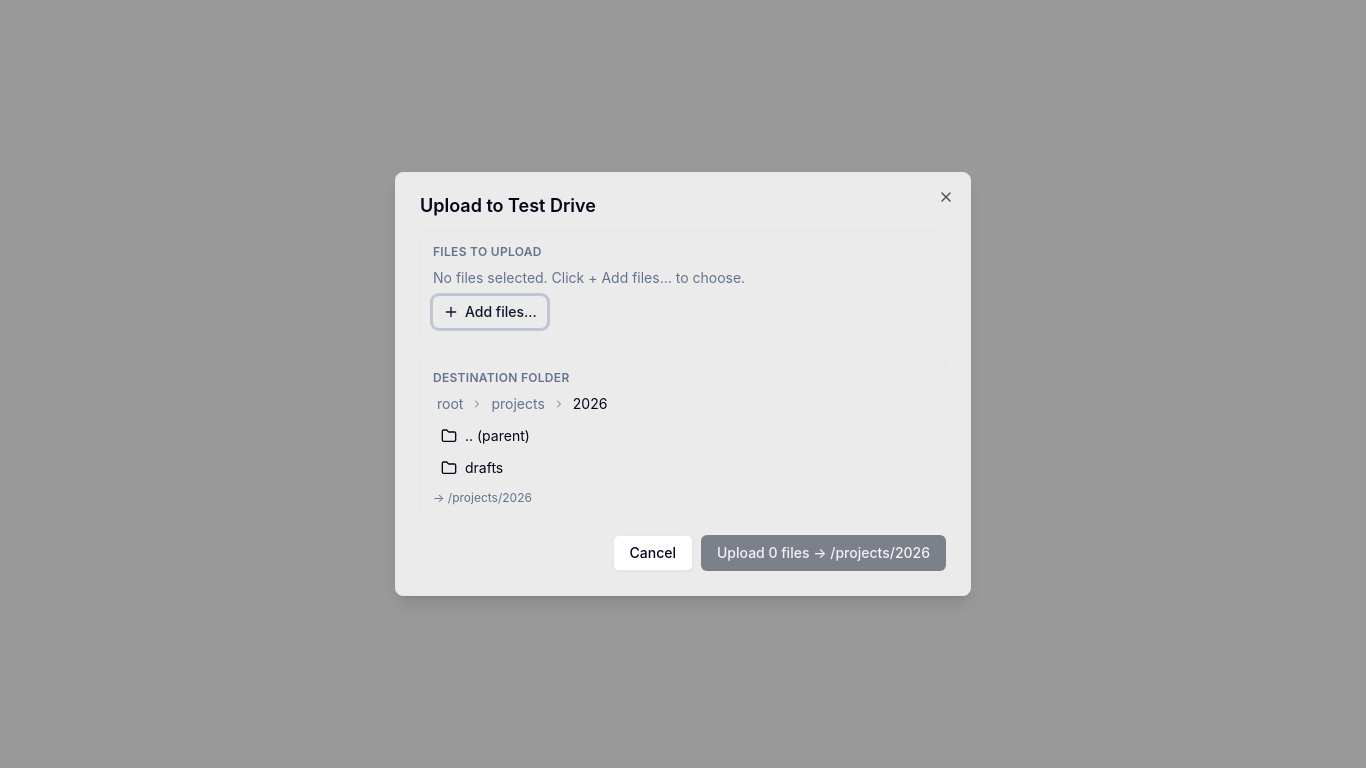
UploadDialog — destination tree › (e) single-click on a directory row navigates INTO it and updates path + breadcrumb + footer + button label
Click the button with test id "upload-dialog-dir-row" at {"x": 484, "y": 468}, box x1=433 y1=454 x2=933 y2=482
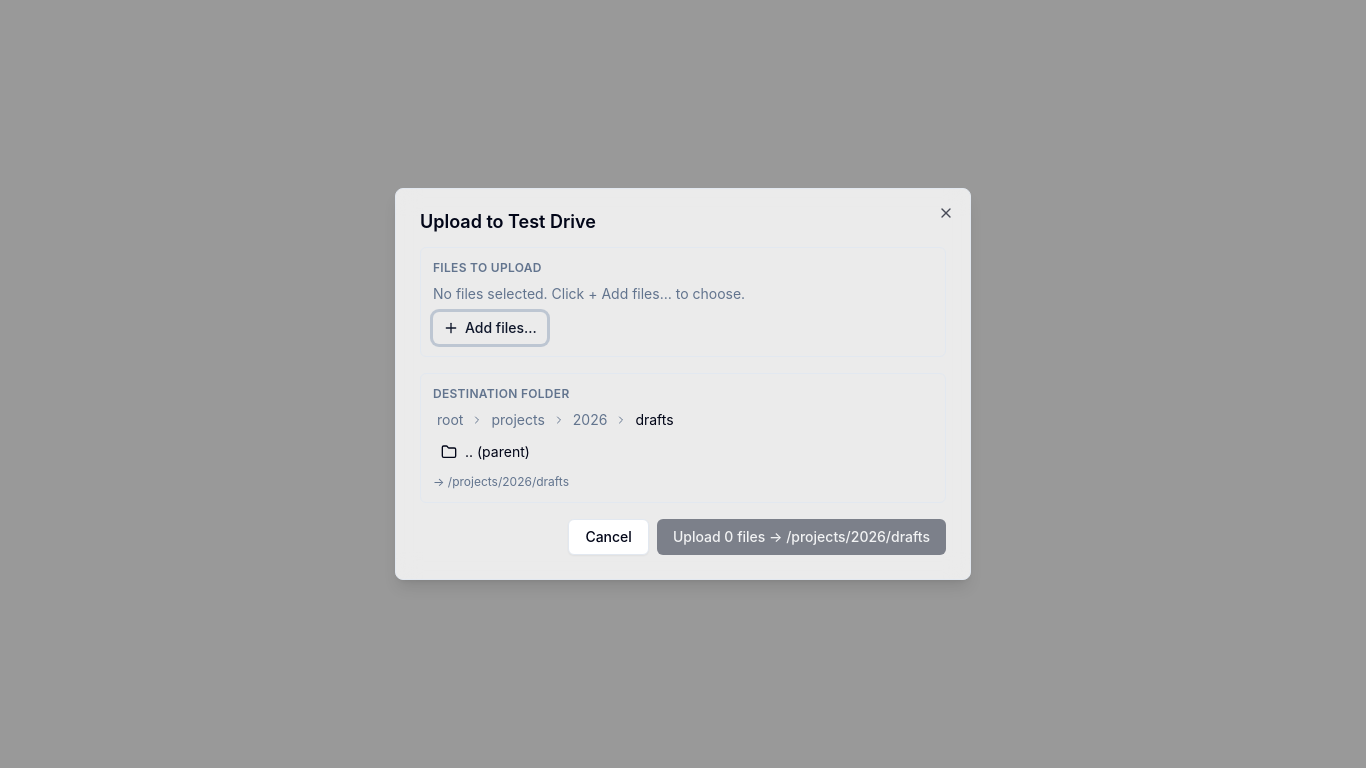
Expected: the text with test id "upload-dialog-destination-footer" reads "→ /projects/2026/drafts", x1=433 y1=474 x2=569 y2=489
Expected: the button with test id "upload-dialog-submit" shows "/projects/2026/drafts", x1=657 y1=519 x2=946 y2=555
